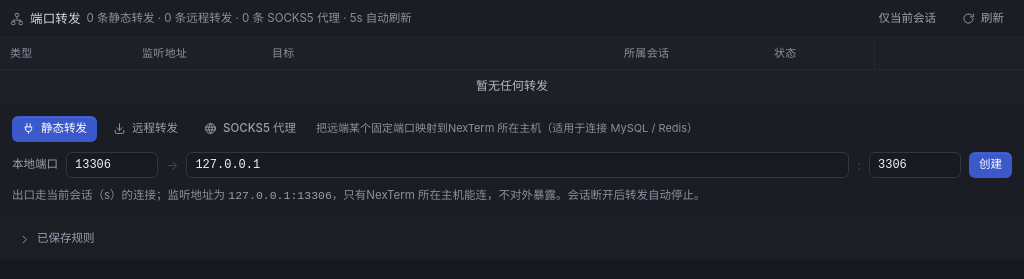
Test: ForwardPanel remote forwarding (-R) › renders remote listen address and target fields after switching to remote forwarding, with port 18080 by default
Click the button "远程转发".
click(146, 129)  # box [103,116,188,142]
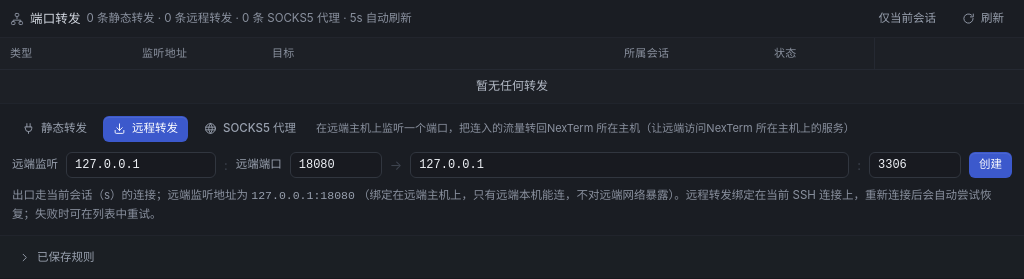
Check: the field with placeholder "18080" is shown, box [290,152,382,178]
Check: the field named "远端监听地址" holds "127.0.0.1", box [66,152,216,178]
